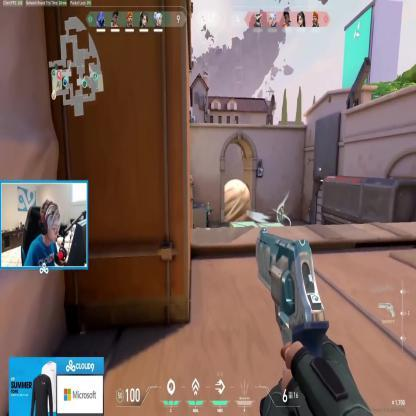enemy: (280, 204, 284, 226)
enemy_head: (281, 204, 284, 209)
